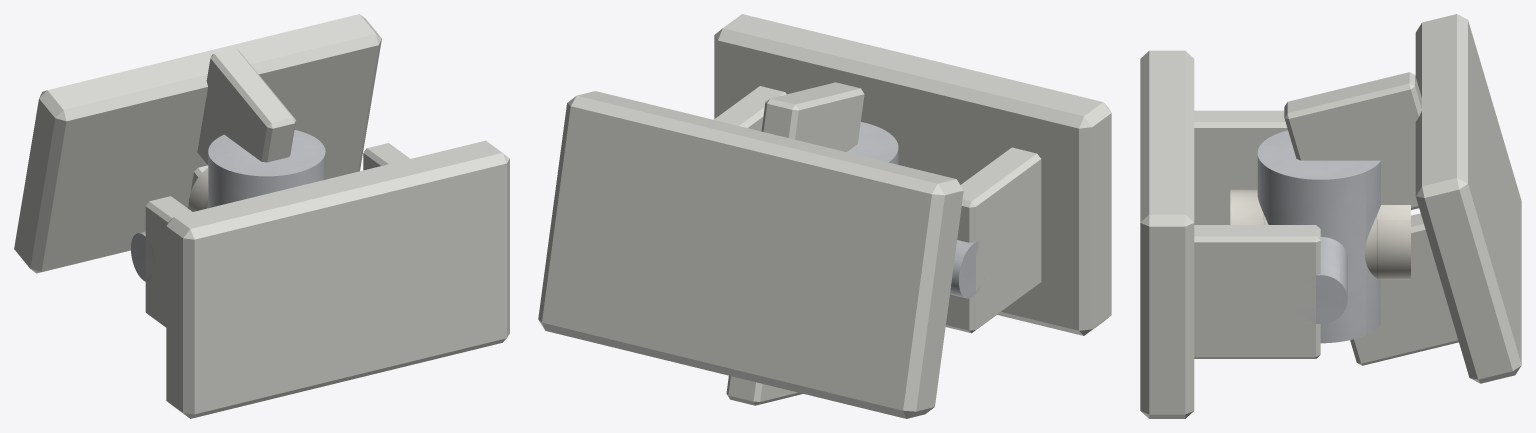
The model's file is ax_rover_16_articulation_joint_pitch_up.glb.
3 views of the same model, side by side, from view 1: azimuth 30°, elevation 25°; view 2: azimuth 150°, elevation 25°; view 3: azimuth 270°, elevation 25° (orthographic). The views are drawn at different scales.
Visible parts, largest first — view 1: front_clevis, rear_clevis, gimbal_block, cable_boot; view 2: rear_clevis, front_clevis, gimbal_block; view 3: rear_clevis, front_clevis, gimbal_block, cable_boot.
Boxes of the visible parts, x1=… form: front_clevis: x1=145, y1=140, x2=509, y2=418; rear_clevis: x1=14, y1=14, x2=381, y2=273; gimbal_block: x1=131, y1=130, x2=325, y2=282; cable_boot: x1=188, y1=167, x2=208, y2=211; rear_clevis: x1=538, y1=82, x2=963, y2=418; front_clevis: x1=714, y1=14, x2=1111, y2=335; gimbal_block: x1=847, y1=122, x2=986, y2=298; rear_clevis: x1=1284, y1=14, x2=1521, y2=383; front_clevis: x1=1140, y1=50, x2=1320, y2=418; gimbal_block: x1=1257, y1=130, x2=1380, y2=343; cable_boot: x1=1230, y1=189, x2=1410, y2=279.
Size of the model in its own units: 0.9 by 0.6907 by 0.8459.
3 materials, 2 textured.
